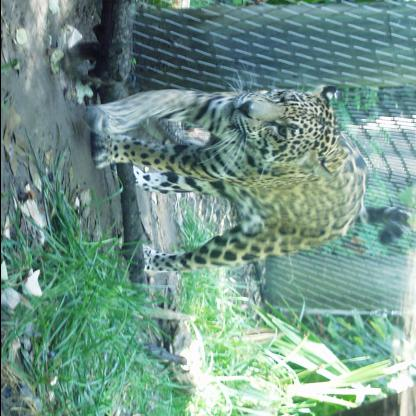leopard: (222, 76, 346, 170)
